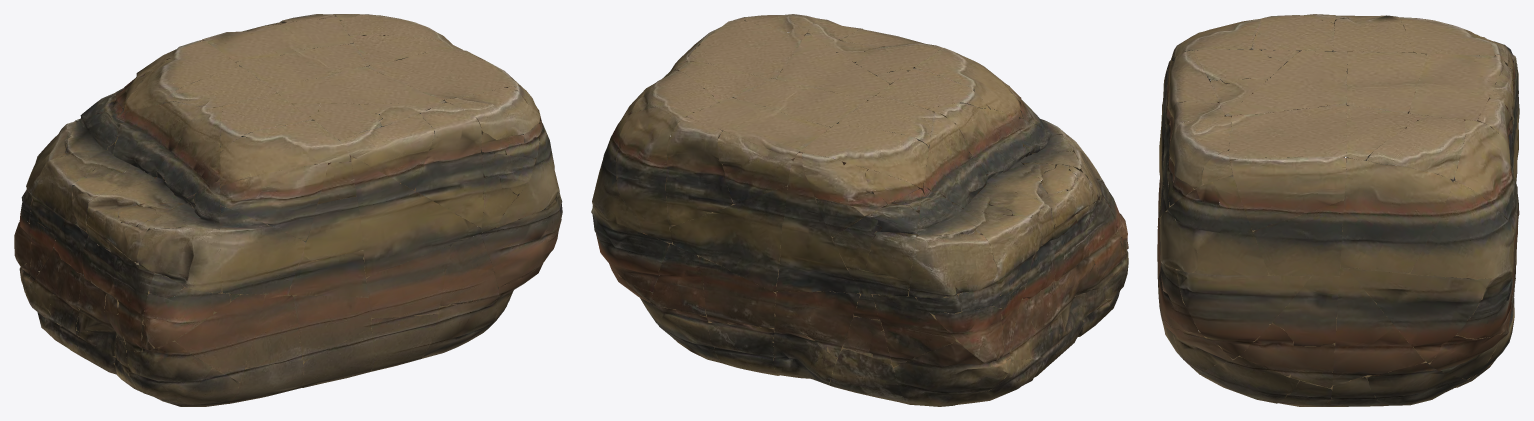
The model's file is boulder-layered.glb.
3 views of the same model, side by side, from view 1: azimuth 30°, elevation 25°; view 2: azimuth 150°, elevation 25°; view 3: azimuth 270°, elevation 25° (orthographic). The views are drawn at different scales.
Visible parts, largest first — view 1: mesh_node; view 2: mesh_node; view 3: mesh_node.
Boxes of the visible parts, <box> form: mesh_node: <box>14,14,562,406</box>; mesh_node: <box>591,14,1128,406</box>; mesh_node: <box>1157,14,1519,406</box>.
Size of the model in its own units: 2.71 by 1.5 by 1.88.
Materials: 1 (1 with a texture image).
